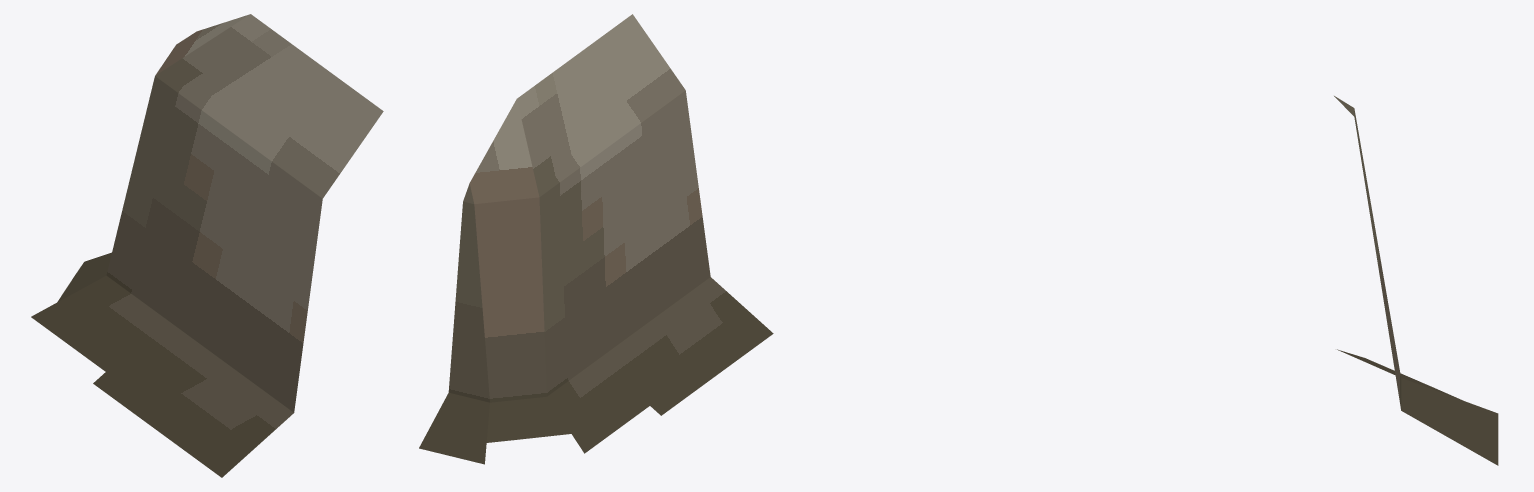
3 views of the same model, side by side, from view 1: azimuth 30°, elevation 25°; view 2: azimuth 150°, elevation 25°; view 3: azimuth 270°, elevation 25° (orthographic). The views are drawn at different scales.
Bounding box in the file's own units: 0.293 × 0.5662 × 0.793.
1 material, 1 textured.
